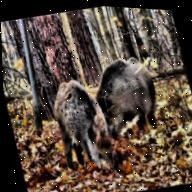boar: (84, 48, 166, 145), (45, 73, 119, 180)
